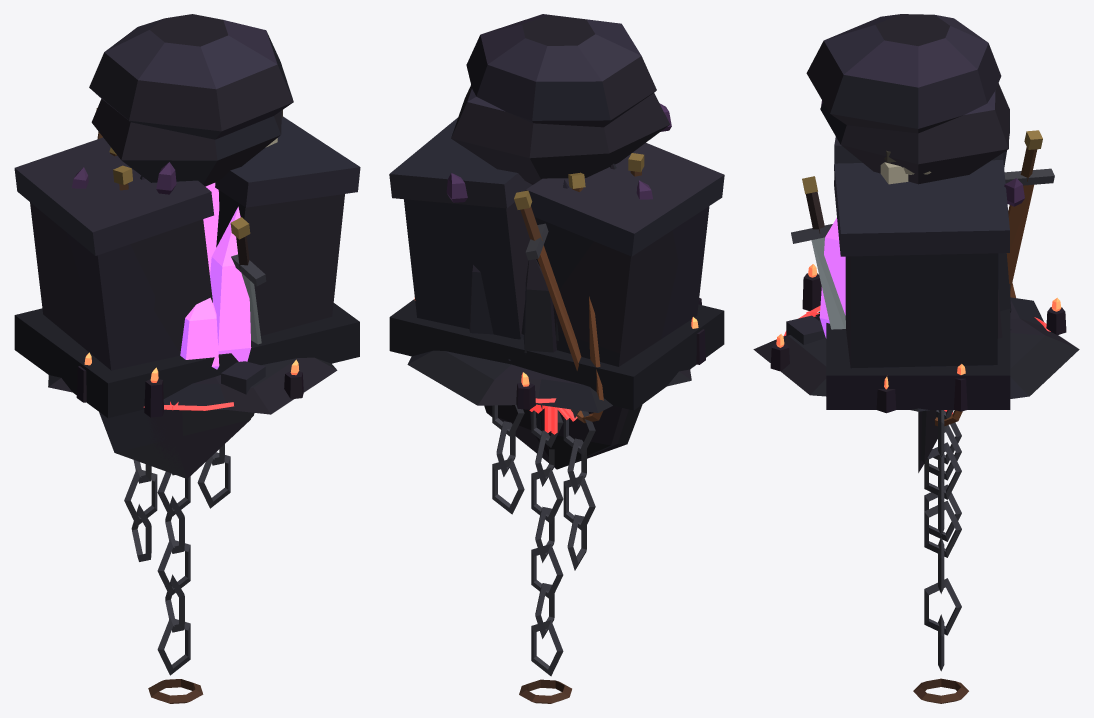
Rendered from abyss.glb.
3 views of the same model, side by side, from view 1: azimuth 30°, elevation 25°; view 2: azimuth 150°, elevation 25°; view 3: azimuth 270°, elevation 25° (orthographic). The views are drawn at different scales.
Visible parts, largest first — view 1: abyss_broken_altar_a, abyss_hovering_rock_b, abyss_broken_altar_b, abyss_hovering_rock_a, abyss_wall_runes_a, abyss_weapon_graveyard_a, abyss_dangling_chains_b, abyss_void_crystal_a, abyss_wall_runes_b, abyss_void_crystal_b, abyss_dangling_chains_a, abyss_weapon_graveyard_b (+2 smaller); view 2: abyss_broken_altar_a, abyss_hovering_rock_b, abyss_broken_altar_b, abyss_hovering_rock_a, abyss_weapon_graveyard_b, abyss_dangling_chains_b, abyss_dangling_chains_a, abyss_weapon_graveyard_a, abyss_wall_runes_b, abyss_void_crystal_b, abyss_wall_runes_a, abyss_void_crystal_a (+1 smaller); view 3: abyss_broken_altar_a, abyss_hovering_rock_b, abyss_hovering_rock_a, abyss_weapon_graveyard_b, abyss_broken_altar_b, abyss_weapon_graveyard_a, abyss_dangling_chains_b, abyss_dangling_chains_a, abyss_ritual_circle_a, abyss_void_crystal_a, abyss_ritual_circle_b, abyss_wall_runes_a (+1 smaller).
Boxes of the visible parts, box(x1,y1,x2,y2) form: abyss_broken_altar_a: box(14, 116, 360, 418); abyss_hovering_rock_b: box(89, 14, 293, 194); abyss_broken_altar_b: box(30, 110, 341, 370); abyss_hovering_rock_a: box(72, 99, 281, 188); abyss_wall_runes_a: box(99, 409, 254, 478); abyss_weapon_graveyard_a: box(109, 147, 337, 414); abyss_dangling_chains_b: box(148, 471, 203, 703); abyss_void_crystal_a: box(210, 190, 251, 361); abyss_wall_runes_b: box(147, 409, 252, 477); abyss_void_crystal_b: box(140, 175, 219, 369); abyss_dangling_chains_a: box(124, 444, 230, 561); abyss_weapon_graveyard_b: box(48, 108, 227, 409); abyss_broken_altar_a: box(389, 117, 724, 410); abyss_hovering_rock_b: box(446, 14, 671, 202); abyss_broken_altar_b: box(404, 199, 678, 366); abyss_hovering_rock_a: box(451, 85, 669, 199); abyss_weapon_graveyard_b: box(407, 153, 691, 405); abyss_dangling_chains_b: box(519, 405, 571, 703); abyss_dangling_chains_a: box(492, 405, 595, 570); abyss_weapon_graveyard_a: box(537, 172, 612, 412); abyss_wall_runes_b: box(529, 404, 628, 469); abyss_void_crystal_b: box(523, 163, 616, 354); abyss_wall_runes_a: box(484, 404, 642, 468); abyss_void_crystal_a: box(469, 179, 568, 360); abyss_broken_altar_a: box(786, 116, 1010, 409); abyss_hovering_rock_b: box(806, 14, 1024, 206); abyss_hovering_rock_a: box(820, 83, 1009, 184); abyss_weapon_graveyard_b: box(814, 130, 1079, 411); abyss_broken_altar_b: box(845, 150, 998, 365); abyss_weapon_graveyard_a: box(753, 176, 1043, 396); abyss_dangling_chains_b: box(913, 425, 968, 703); abyss_dangling_chains_a: box(924, 410, 961, 541); abyss_ritual_circle_a: box(783, 264, 1062, 413); abyss_void_crystal_a: box(819, 217, 1011, 338); abyss_ritual_circle_b: box(770, 307, 1066, 411); abyss_wall_runes_a: box(918, 410, 937, 472).
Bounding box in the file's own units: 0.8184 × 1.93 × 0.8583.
